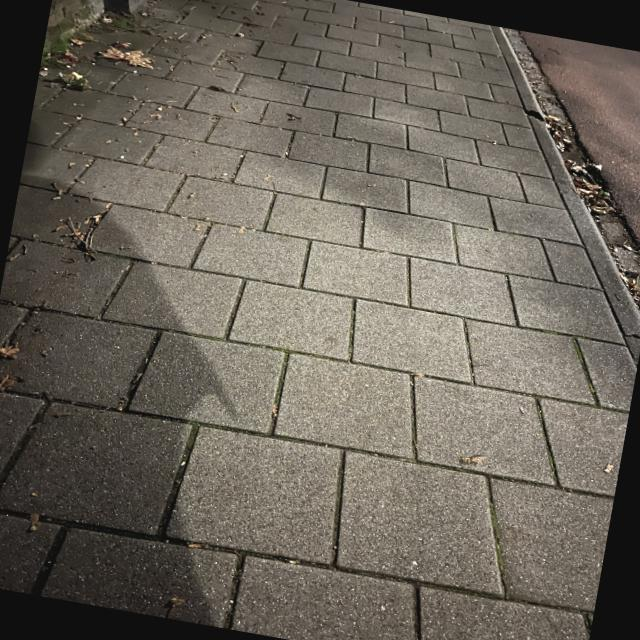pavement: (0, 255, 633, 639)
plants: (268, 310, 354, 363), (171, 420, 289, 449)
weedling: (451, 467, 470, 473), (97, 314, 100, 320)
